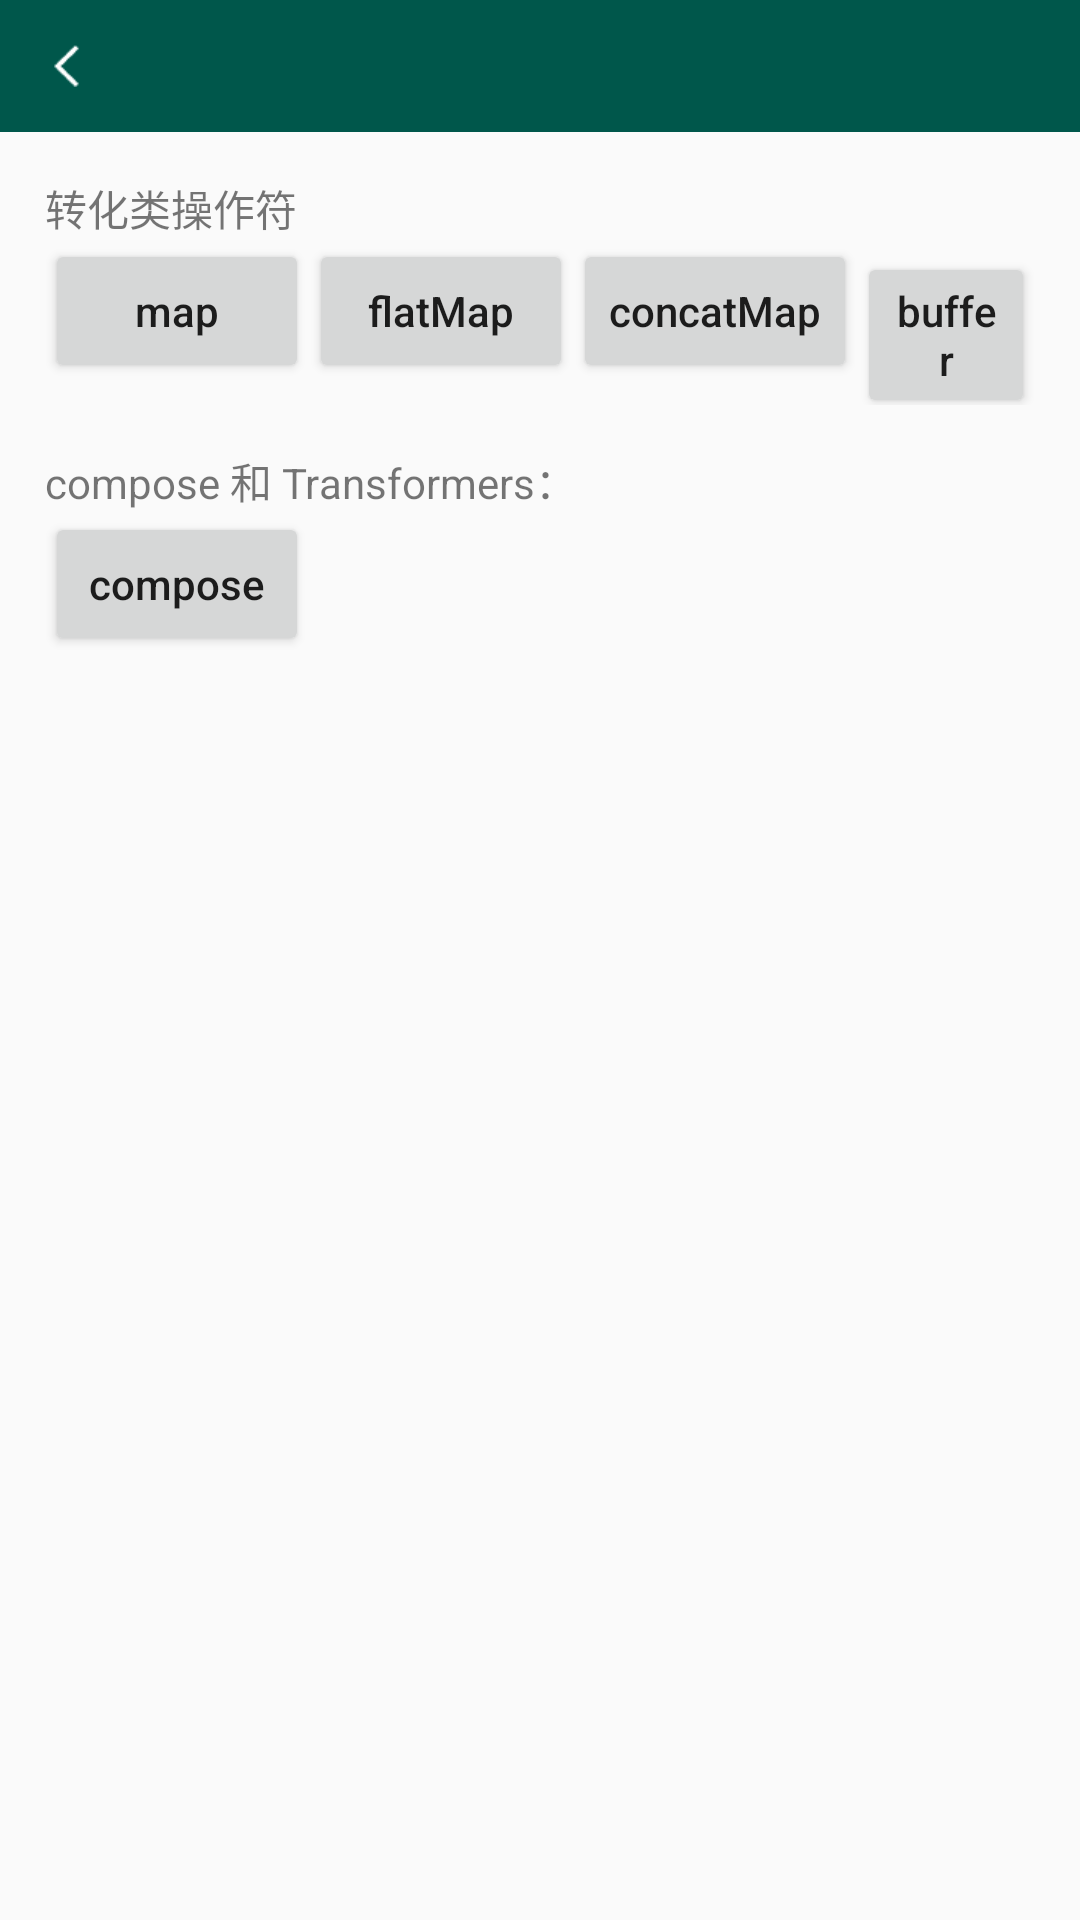

Where to tap for icons on this 1080x1920 app screen, as [x,y]:
back: [66,66]
